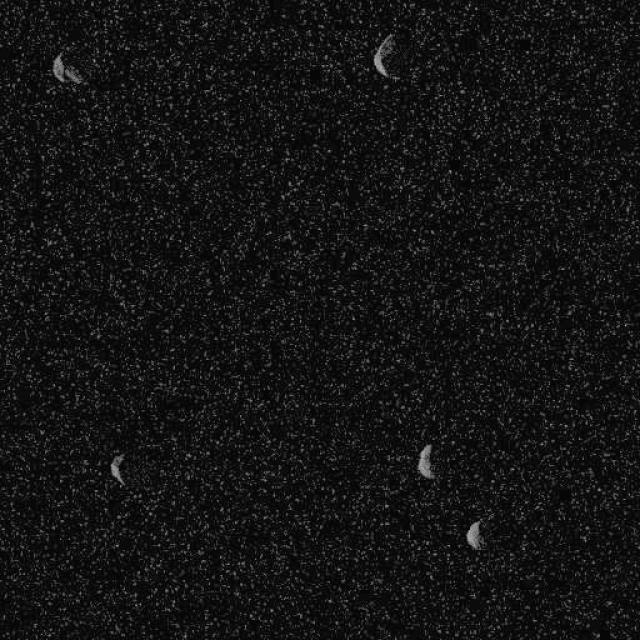D2: (371, 31, 399, 80), (50, 50, 85, 85), (416, 442, 435, 478), (465, 519, 485, 550), (109, 452, 126, 486)
